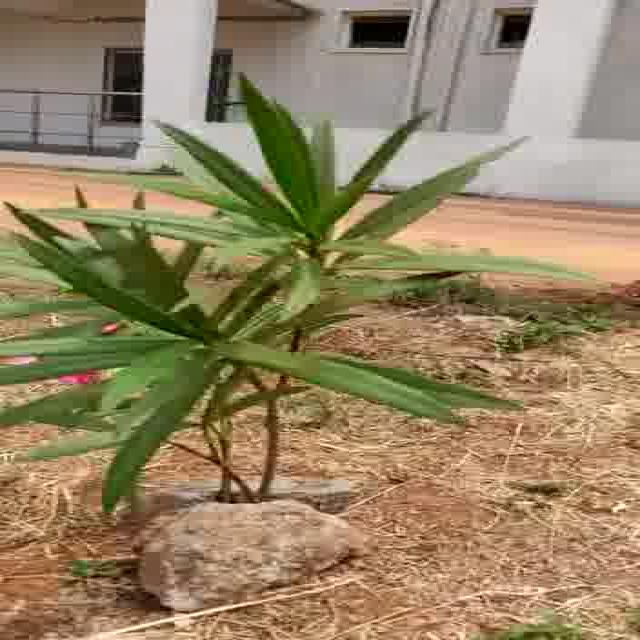Oleander: (0, 113, 548, 474)
